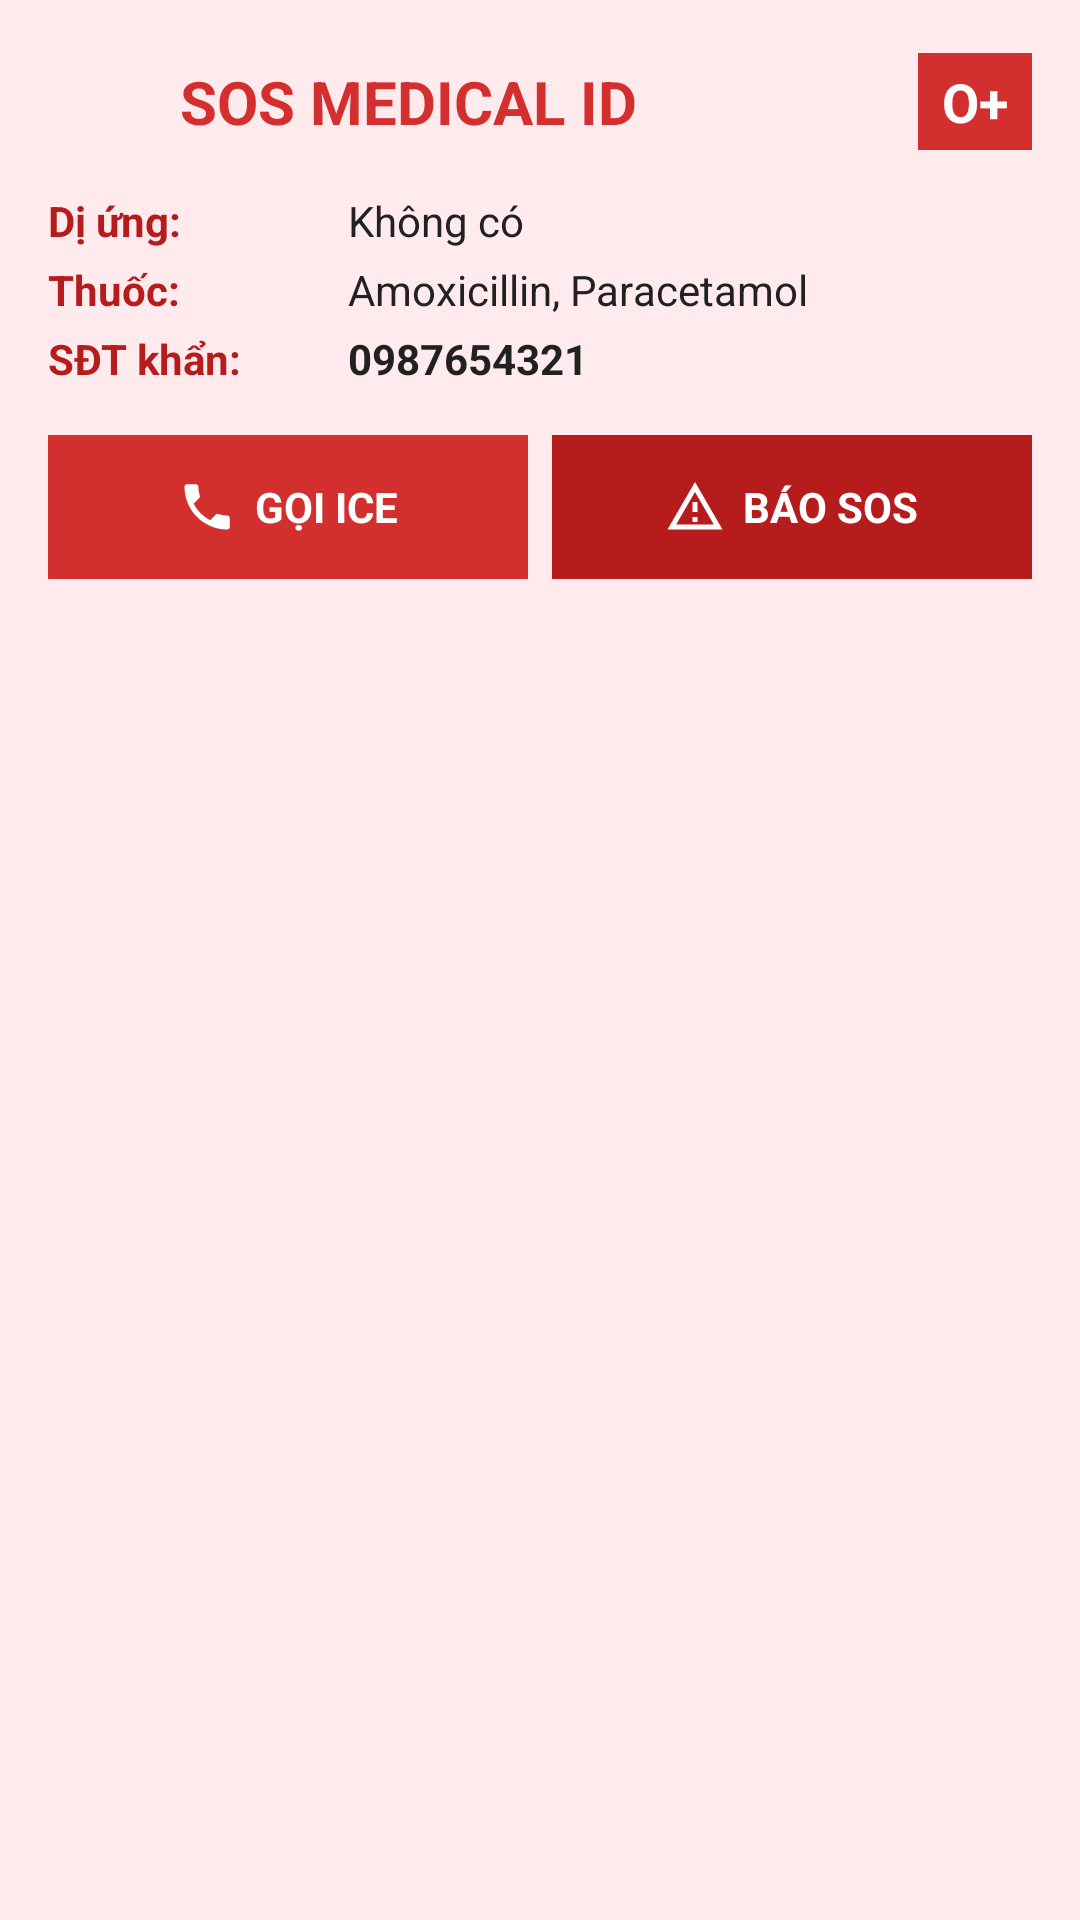

Locate icon controls on the screen. Image size 1080×1920, boxes as (x1, y1, x2, y2).
call: (184, 484, 230, 530)
warning: (667, 482, 723, 530)
